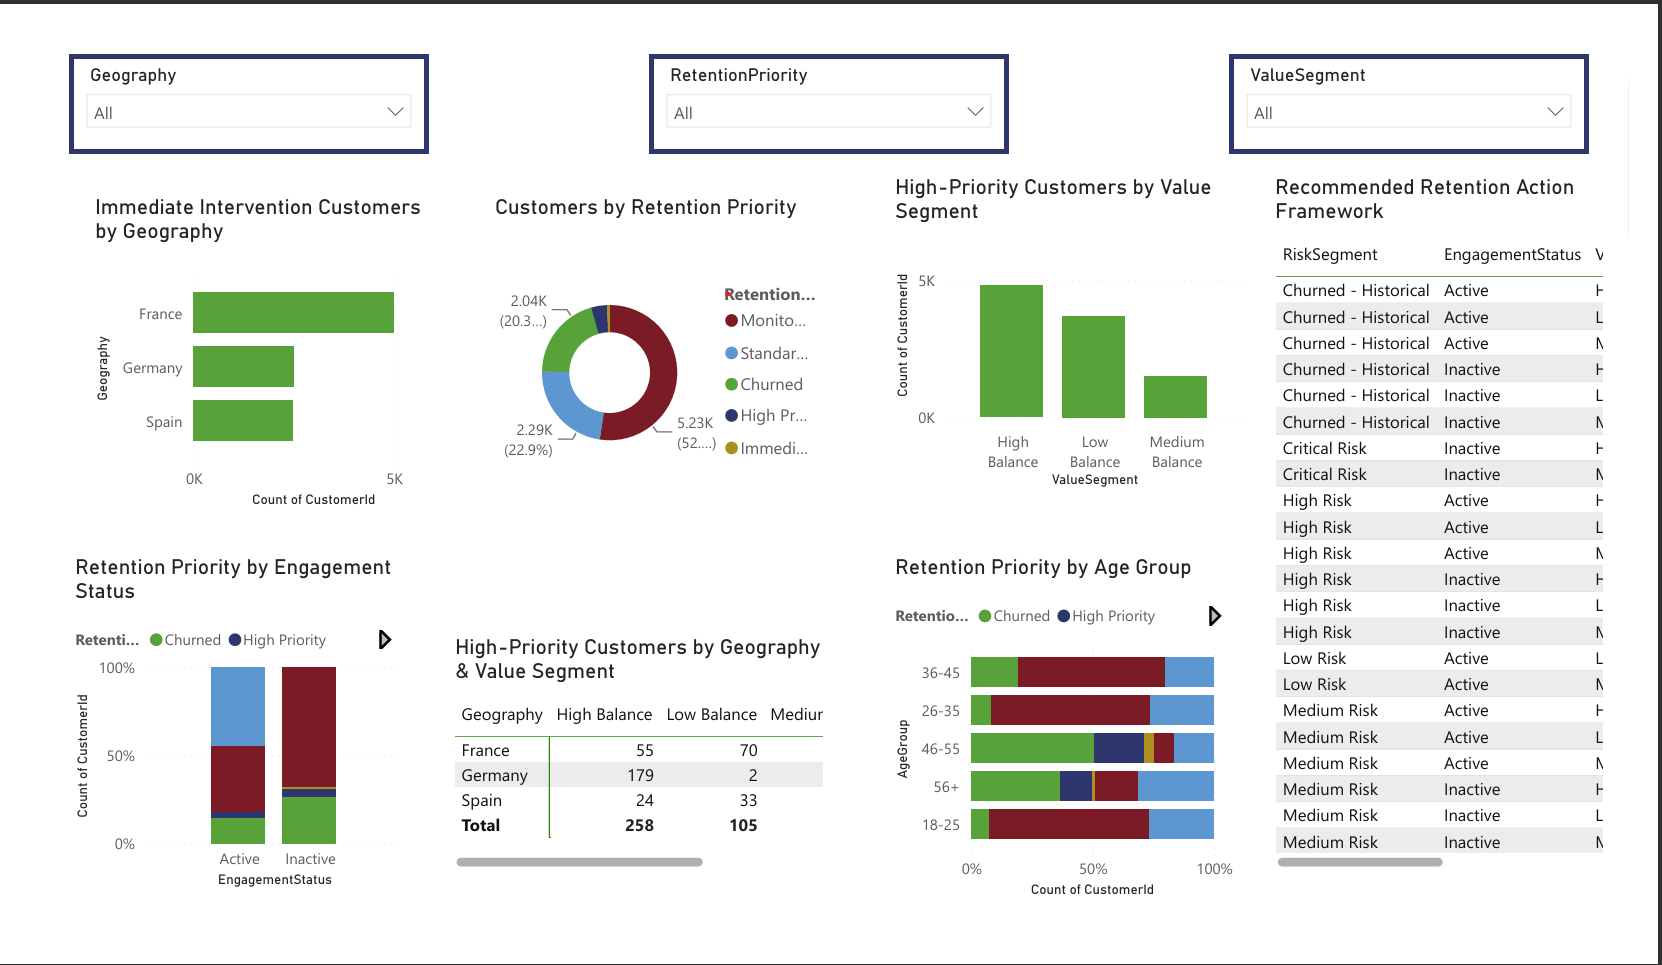

Layout of this report page (visuals, bound fields, positions):
{"tool":"powerbi","page":{"name":"Retention Strategy & Action Plan","canvas":[1280,720],"ordinal":3},"visuals":[{"type":"donutChart","title":"Customers by Retention Priority","fields":{"Category":["customer_churn_cleaned.RetentionPriority"],"Y":["CountNonNull(customer_churn_cleaned.CustomerId)"]},"box":[368,128,272,256],"z":0},{"type":"clusteredBarChart","title":"Immediate Intervention Customers by Geography","fields":{"Category":["customer_churn_cleaned.Geography"],"Y":["CountNonNull(customer_churn_cleaned.CustomerId)"]},"box":[48,128,288,256],"z":1000},{"type":"clusteredColumnChart","title":"High-Priority Customers by Value Segment","fields":{"Category":["customer_churn_cleaned.ValueSegment"],"Y":["CountNonNull(customer_churn_cleaned.CustomerId)"]},"box":[688,112,288,256],"z":2000},{"type":"hundredPercentStackedColumnChart","title":"Retention Priority by Engagement Status","fields":{"Category":["customer_churn_cleaned.EngagementStatus"],"Y":["CountNonNull(customer_churn_cleaned.CustomerId)"],"Series":["customer_churn_cleaned.RetentionPriority"]},"box":[32,416,272,272],"z":3000},{"type":"hundredPercentStackedBarChart","title":"Retention Priority by Age Group","fields":{"Category":["customer_churn_cleaned.AgeGroup"],"Y":["CountNonNull(customer_churn_cleaned.CustomerId)"],"Series":["customer_churn_cleaned.RetentionPriority"]},"box":[688,416,280,280],"z":4000},{"type":"pivotTable","title":"High-Priority Customers by Geography & Value Segment","fields":{"Rows":["customer_churn_cleaned.Geography"],"Columns":["customer_churn_cleaned.ValueSegment"],"Values":["CountNonNull(customer_churn_cleaned.CustomerId)"]},"box":[336,480,304,192],"z":5000},{"type":"tableEx","title":"Recommended Retention Action Framework","fields":{"Values":["customer_churn_cleaned.RiskSegment","customer_churn_cleaned.EngagementStatus","customer_churn_cleaned.ValueSegment","customer_churn_cleaned.RetentionPriority"]},"box":[992,112,272,560],"z":6000},{"type":"slicer","fields":{"Values":["customer_churn_cleaned.Geography"]},"box":[32,16,288,80],"z":7000},{"type":"slicer","fields":{"Values":["customer_churn_cleaned.ValueSegment"]},"box":[960,16,288,80],"z":8000},{"type":"slicer","fields":{"Values":["customer_churn_cleaned.RetentionPriority"]},"box":[496,16,288,80],"z":9000}]}

Visuals, with their boxes on the page's 1280x720 design canvas (x1, y1, x2, y2). These are canvas units, not pixel positions in the 1662x965 screenshot, which may show the page scaled, cropped or inside an application window:
"Customers by Retention Priority" donutChart: box=[368, 128, 640, 384]
"Immediate Intervention Customers by Geography" clusteredBarChart: box=[48, 128, 336, 384]
"High-Priority Customers by Value Segment" clusteredColumnChart: box=[688, 112, 976, 368]
"Retention Priority by Engagement Status" hundredPercentStackedColumnChart: box=[32, 416, 304, 688]
"Retention Priority by Age Group" hundredPercentStackedBarChart: box=[688, 416, 968, 696]
"High-Priority Customers by Geography & Value Segment" pivotTable: box=[336, 480, 640, 672]
"Recommended Retention Action Framework" tableEx: box=[992, 112, 1264, 672]
slicer - customer_churn_cleaned.Geography: box=[32, 16, 320, 96]
slicer - customer_churn_cleaned.ValueSegment: box=[960, 16, 1248, 96]
slicer - customer_churn_cleaned.RetentionPriority: box=[496, 16, 784, 96]
